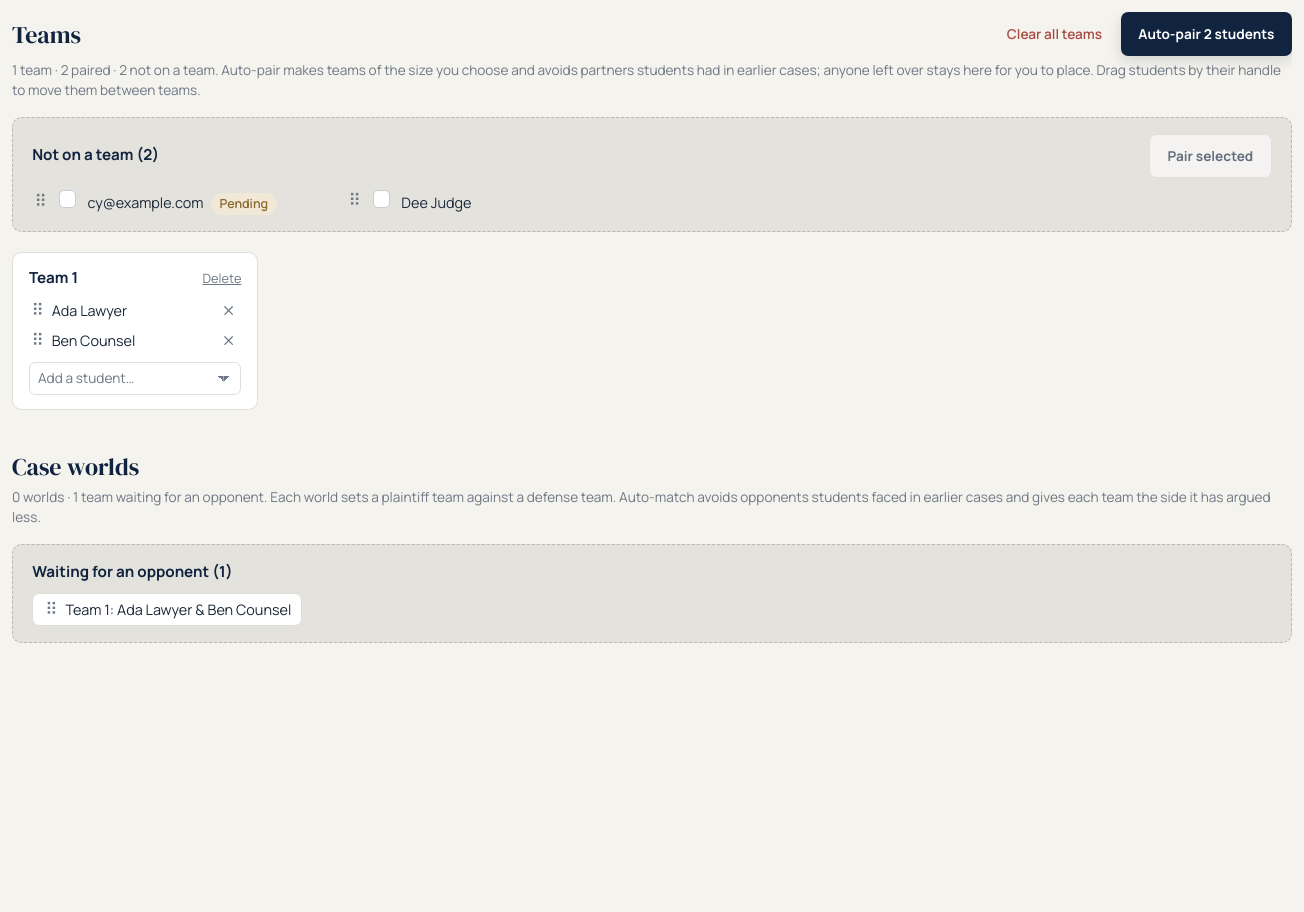
Test case: TeamsSection › deletes a team after confirming
The image size is (1304, 912).
Expected: the text "Ada Lawyer" is shown, [52,300,127,321]
Step 1. Click the button "Delete" → (222, 278), box [202,269,241,288]
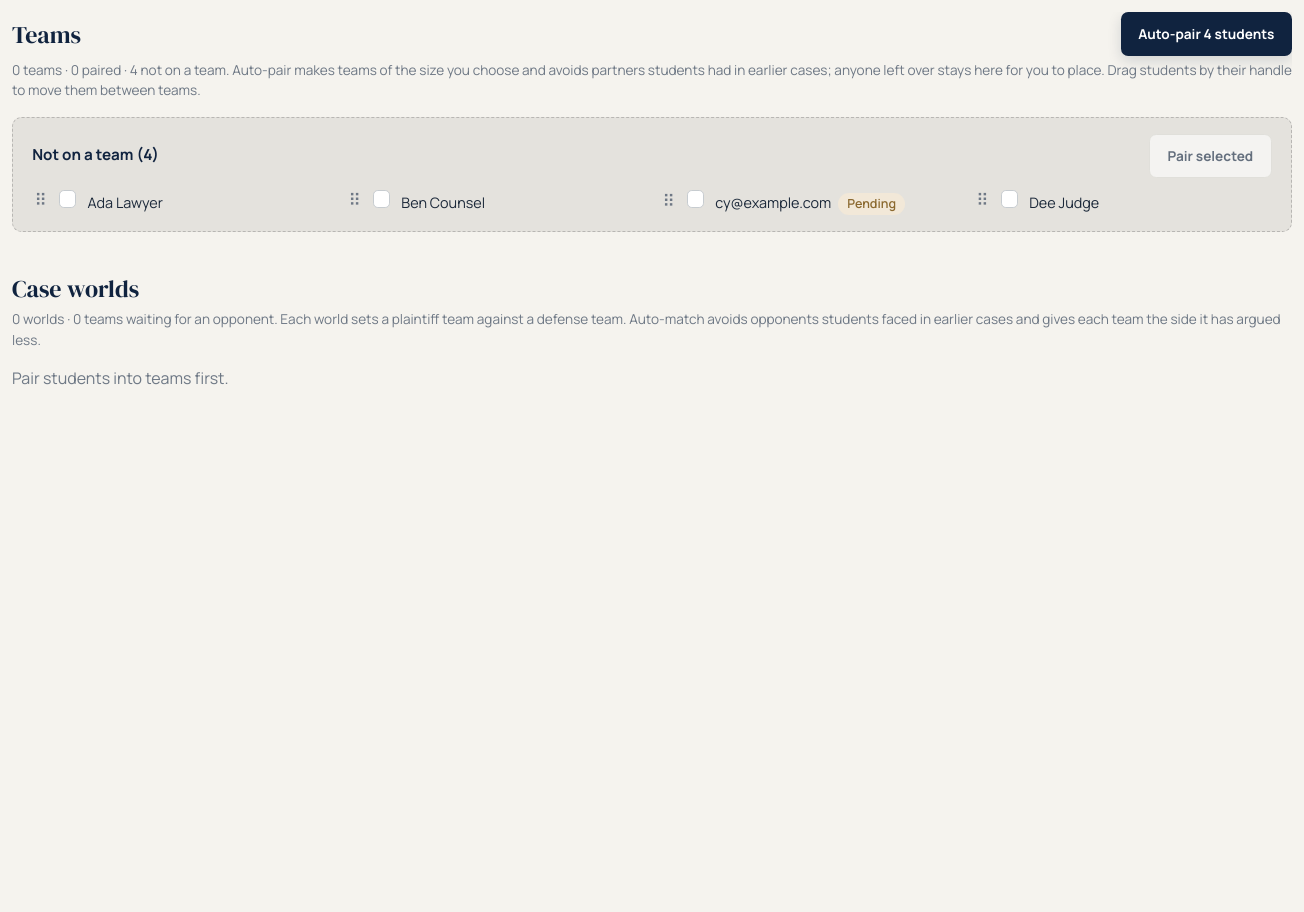
Expected: the heading "Team 1" is gone
Expected: the heading "Not on a team (4)" is shown, [32,144,159,167]
